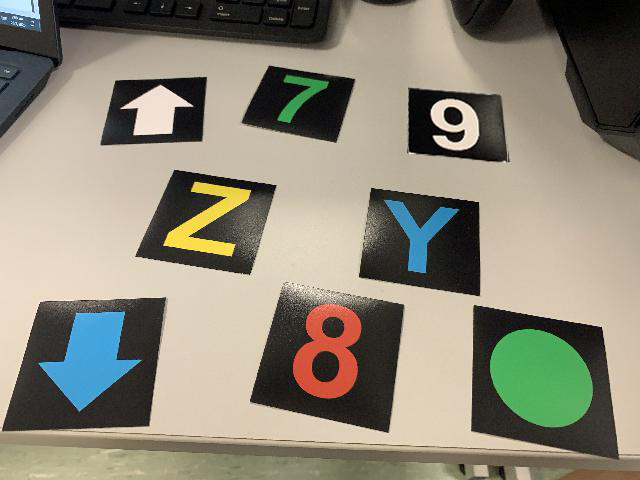alphabet_y: (359, 186, 483, 298)
alphabet_z: (134, 168, 278, 278)
down_arrow: (1, 296, 169, 433)
eight: (250, 277, 406, 435)
go: (471, 303, 621, 463)
nine: (406, 87, 512, 163)
seven: (239, 62, 357, 145)
up_arrow: (98, 76, 208, 148)
